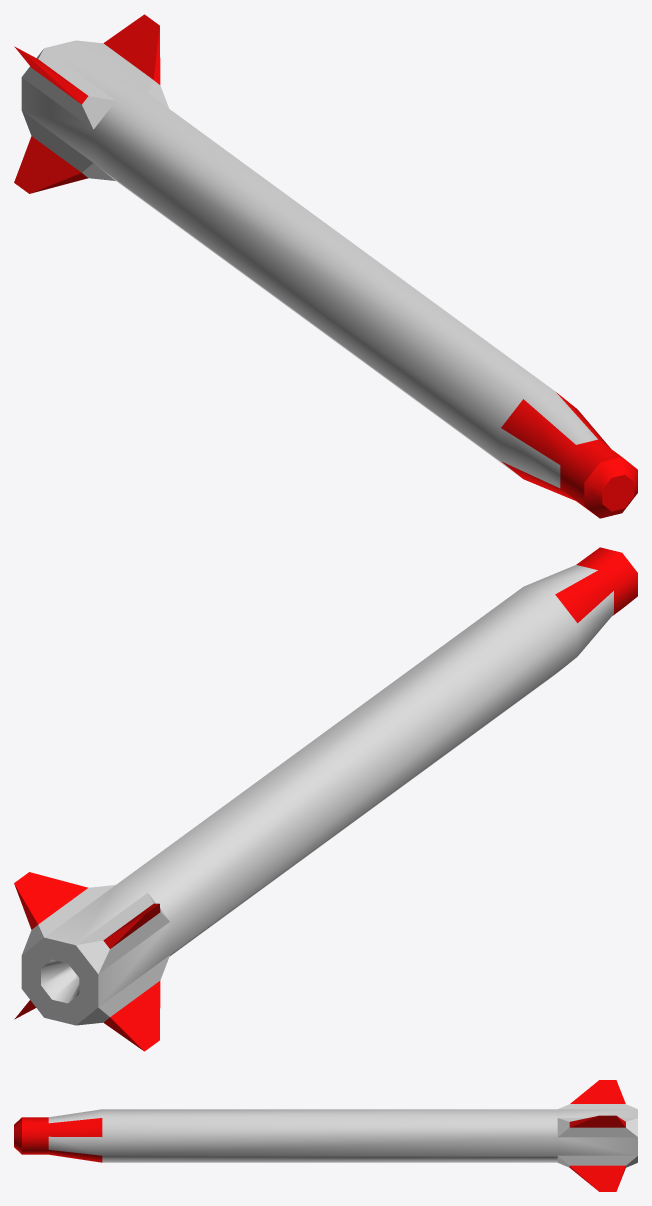
Rendered from dumbmissile.obj.
The picture shows the model from 3 angles, top to bottom: view 1: azimuth 30°, elevation 25°; view 2: azimuth 150°, elevation 25°; view 3: azimuth 270°, elevation 25°; orthographic projection. The views are drawn at different scales.
Visible parts, largest first — view 1: cylinder1_default, cylinder1_marker; view 2: cylinder1_default, cylinder1_marker; view 3: cylinder1_default, cylinder1_marker.
Part boxes in pixels (bbox=[...]): cylinder1_default: bbox=[21, 40, 597, 487]; cylinder1_marker: bbox=[14, 14, 637, 518]; cylinder1_default: bbox=[21, 565, 613, 1025]; cylinder1_marker: bbox=[14, 547, 637, 1051]; cylinder1_default: bbox=[48, 1104, 637, 1167]; cylinder1_marker: bbox=[14, 1080, 625, 1191].
Size of the model in its own units: 0.3145 by 0.3145 by 2.33.
